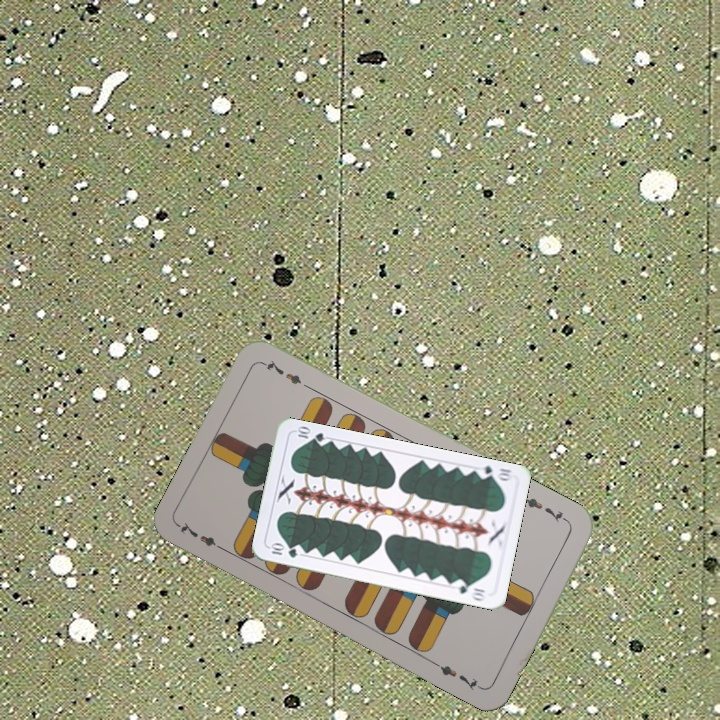E7: (175, 518, 229, 555), (517, 491, 572, 527)
G10: (473, 462, 515, 484), (267, 540, 300, 560)
